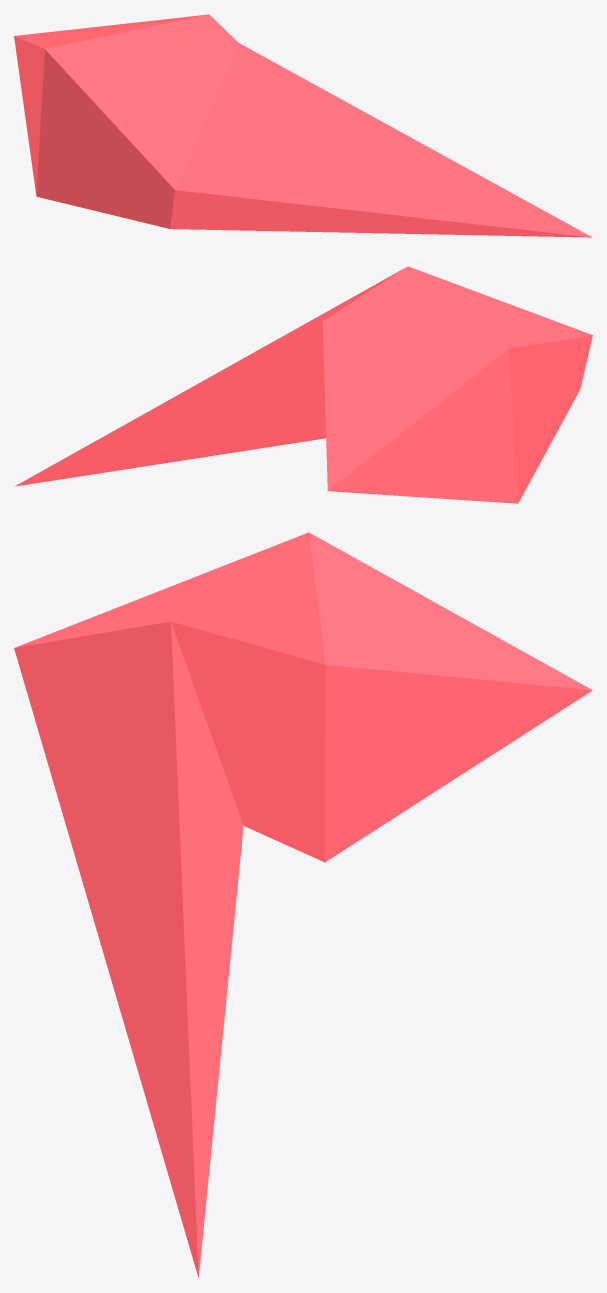
The model's file is H1_RPl_Blob3.gltf.
The picture shows the model from 3 angles, top to bottom: view 1: azimuth 30°, elevation 25°; view 2: azimuth 150°, elevation 25°; view 3: azimuth 270°, elevation 25°; orthographic projection. The views are drawn at different scales.
Parts seen in each view (by area): view 1: H1_RPl_Blob3; view 2: H1_RPl_Blob3; view 3: H1_RPl_Blob3.
Part boxes in pixels (x1,y1,x2,y2): H1_RPl_Blob3: (14,14,592,237); H1_RPl_Blob3: (14,266,592,503); H1_RPl_Blob3: (14,532,592,1277).
Size of the model in its own units: 1.14 by 0.6104 by 0.7853.
